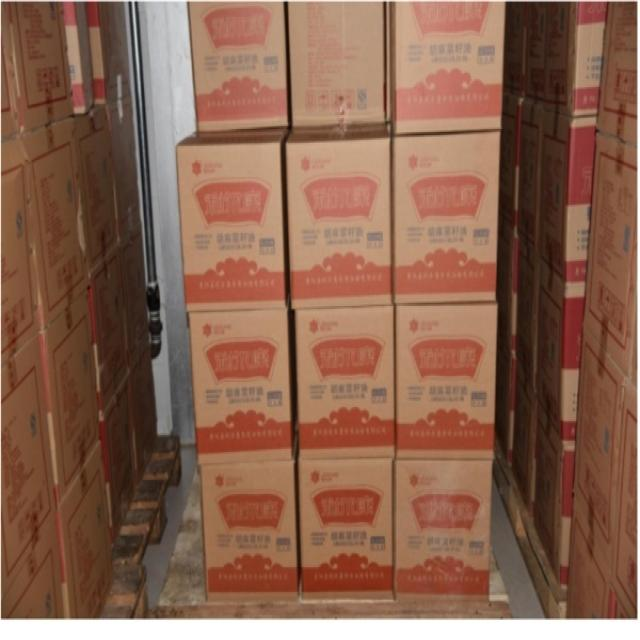box: (177, 128, 288, 311), (286, 121, 392, 305), (392, 133, 501, 302), (188, 307, 293, 465), (388, 1, 506, 135), (397, 304, 498, 460), (295, 304, 396, 458), (0, 327, 57, 598), (22, 115, 89, 329), (396, 459, 494, 601), (573, 330, 627, 585), (298, 459, 397, 598), (584, 132, 637, 390), (42, 286, 102, 510), (187, 1, 288, 134), (203, 459, 298, 598), (288, 1, 388, 126), (533, 103, 599, 289), (54, 444, 117, 621), (534, 260, 587, 445), (1, 135, 43, 365), (529, 397, 577, 582), (76, 103, 122, 284), (8, 3, 74, 129), (541, 1, 610, 113), (0, 510, 66, 618), (99, 374, 138, 546), (91, 248, 128, 423), (596, 4, 637, 148), (568, 510, 618, 619), (618, 381, 638, 615), (111, 102, 143, 248), (129, 348, 157, 489), (99, 1, 133, 112), (518, 97, 541, 259), (511, 367, 535, 521), (125, 232, 150, 377), (64, 1, 96, 113), (514, 241, 536, 398), (518, 2, 548, 103), (496, 221, 517, 363), (494, 329, 515, 470), (498, 92, 517, 240), (1, 7, 21, 140), (501, 1, 524, 96), (87, 2, 107, 104), (616, 585, 638, 619)
